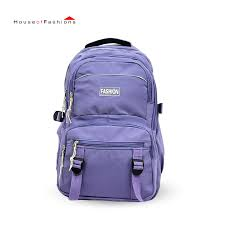bag: (52, 43, 169, 212)
